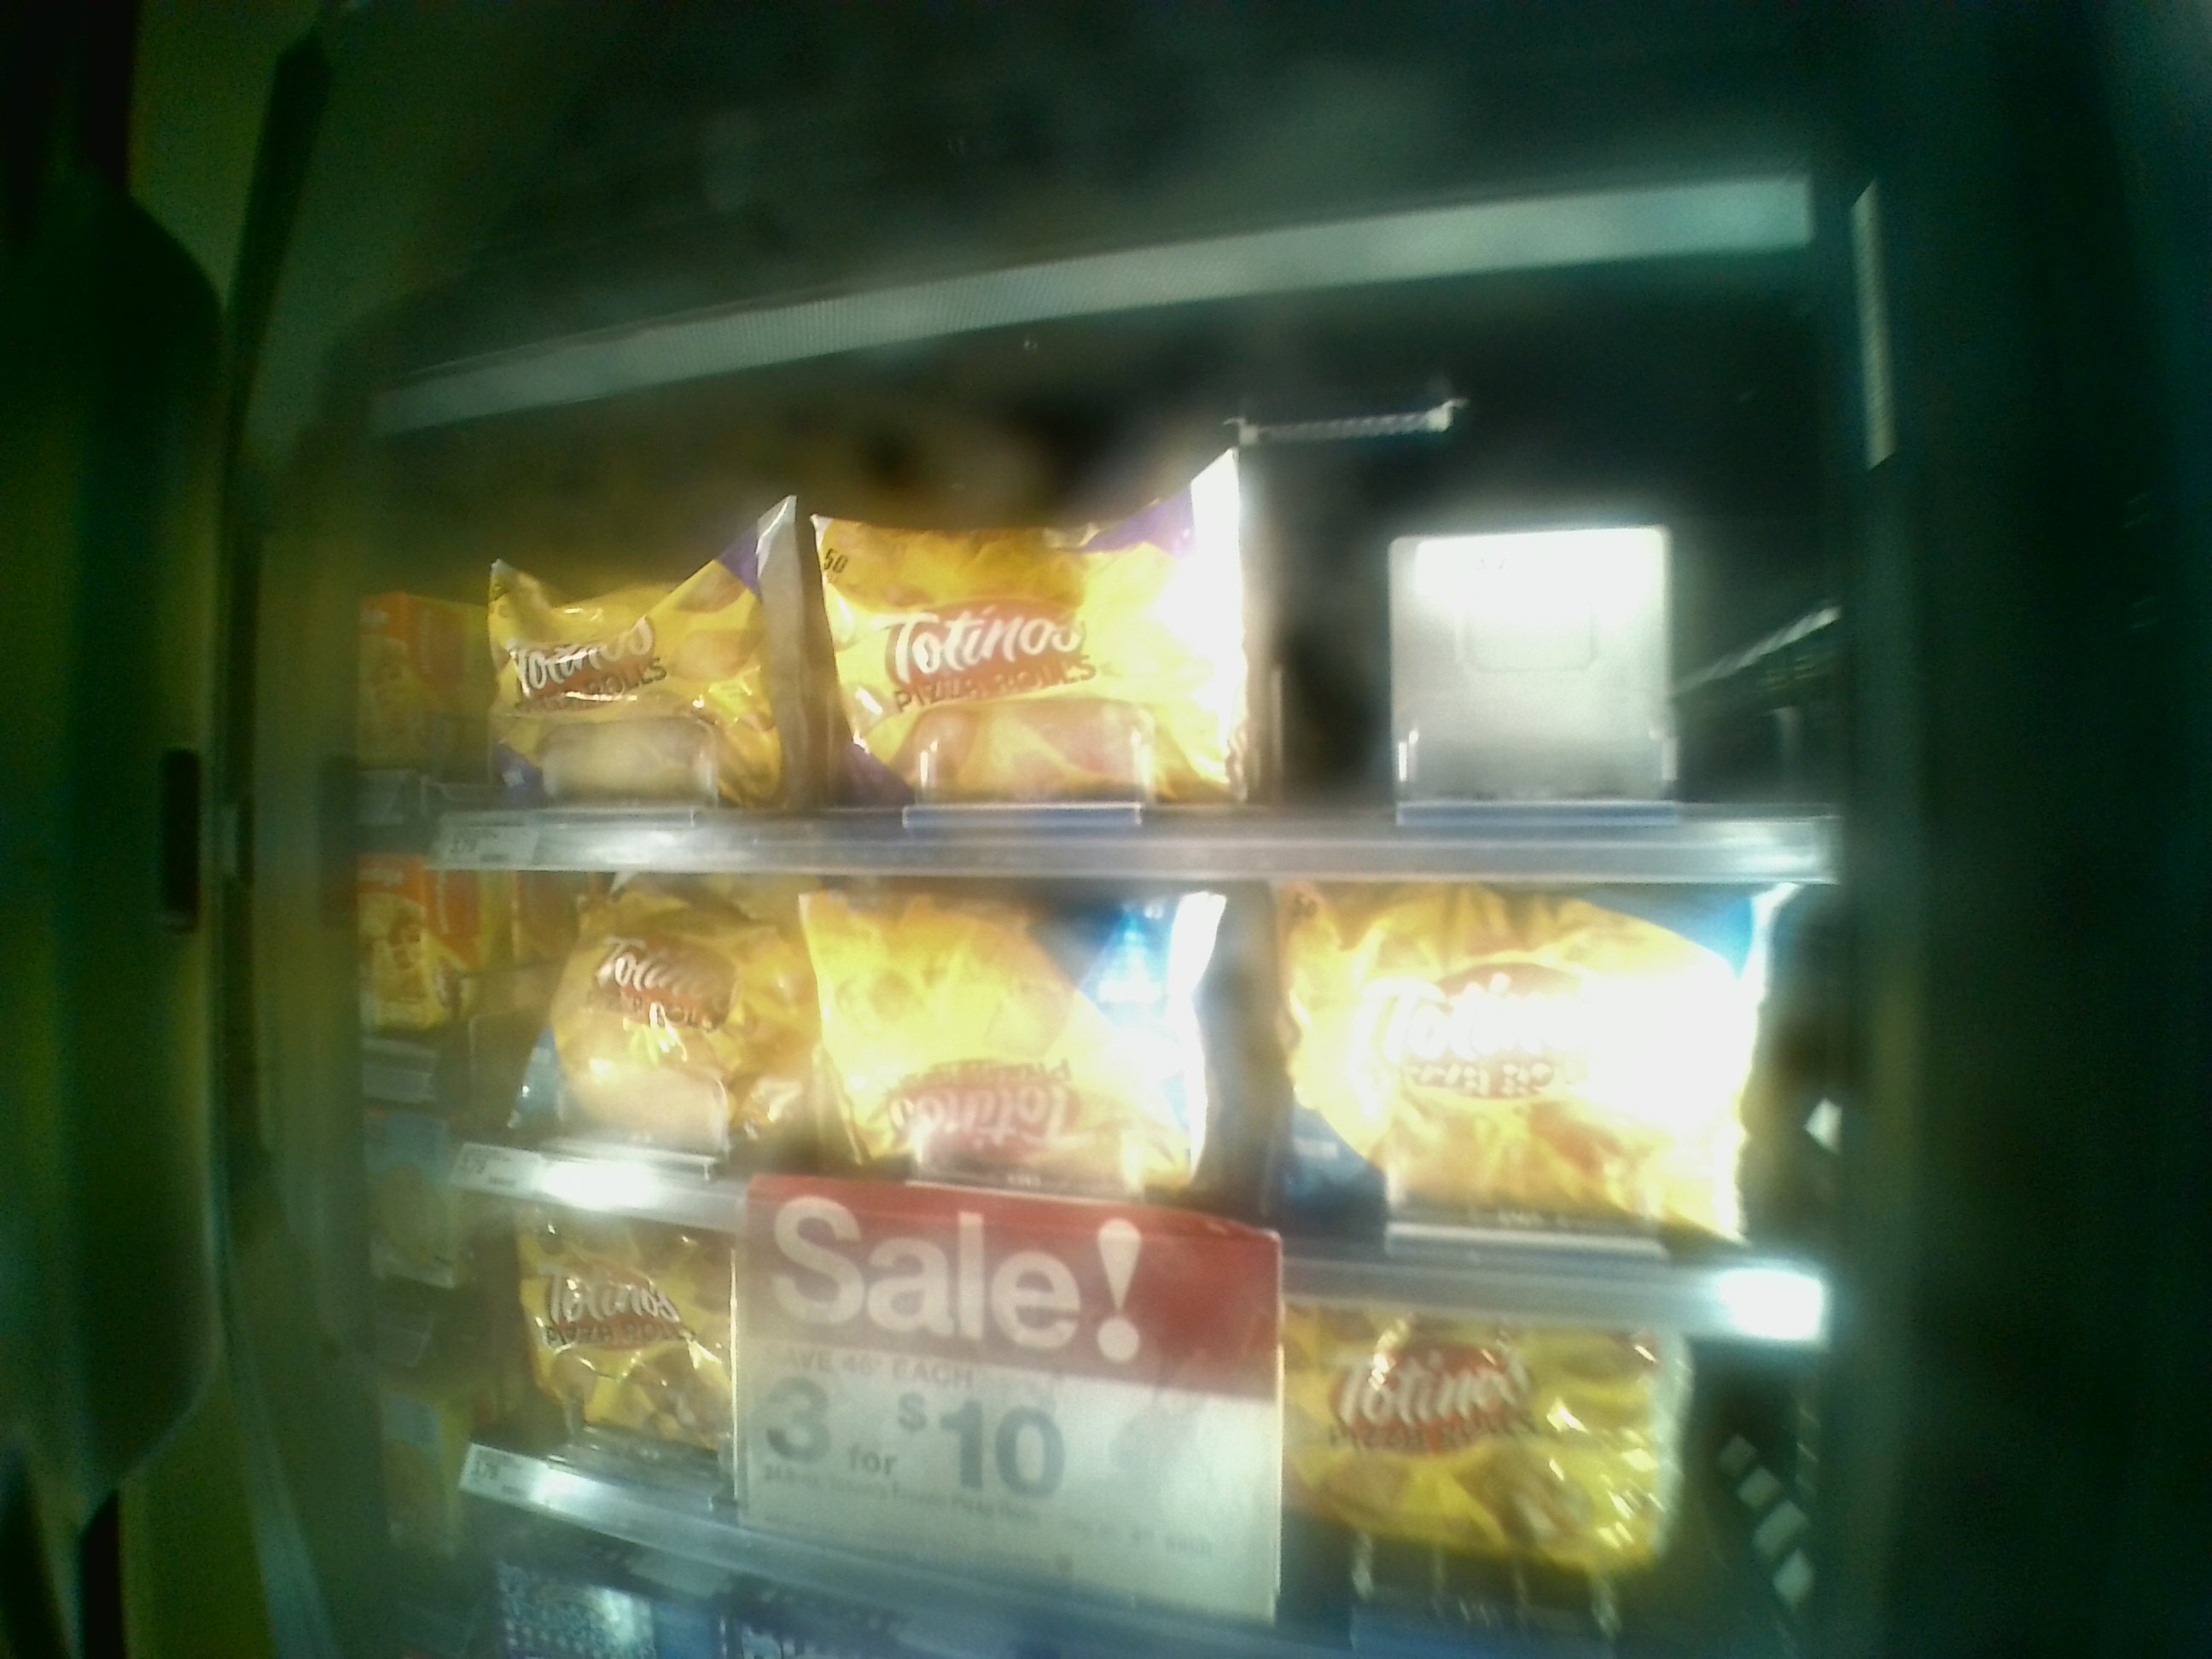shelf: (444, 877, 1832, 1342), (432, 427, 1822, 878)
